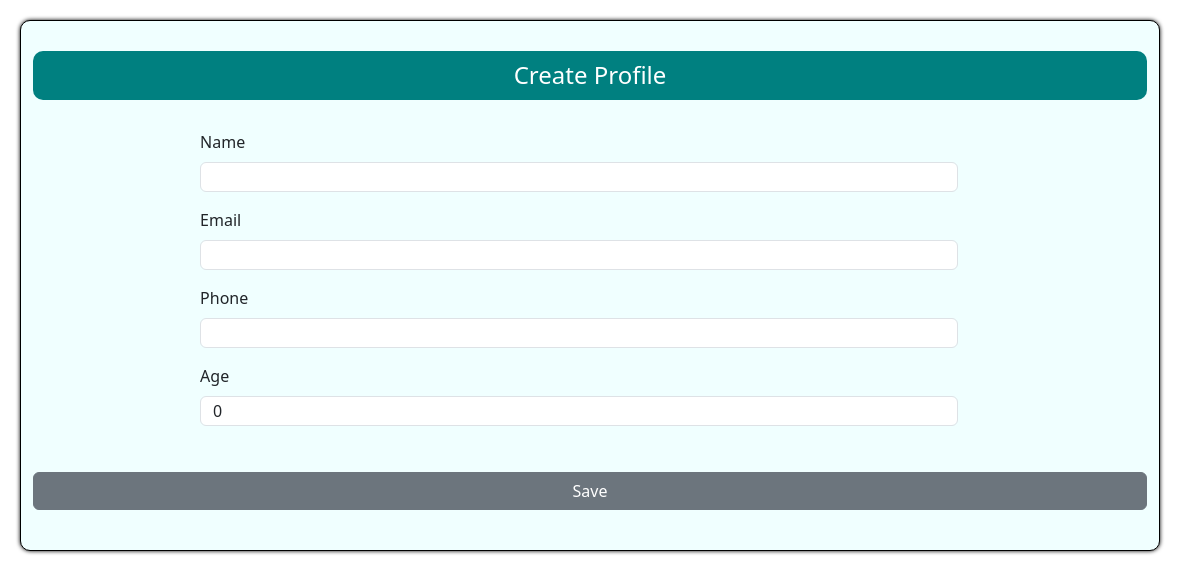
Test: ProfileForm Component › submits form successfully
Type "Jon Smith" into the field labelled "Name".
click(579, 177); type("Jon Smith")  # box [200, 162, 958, 192]
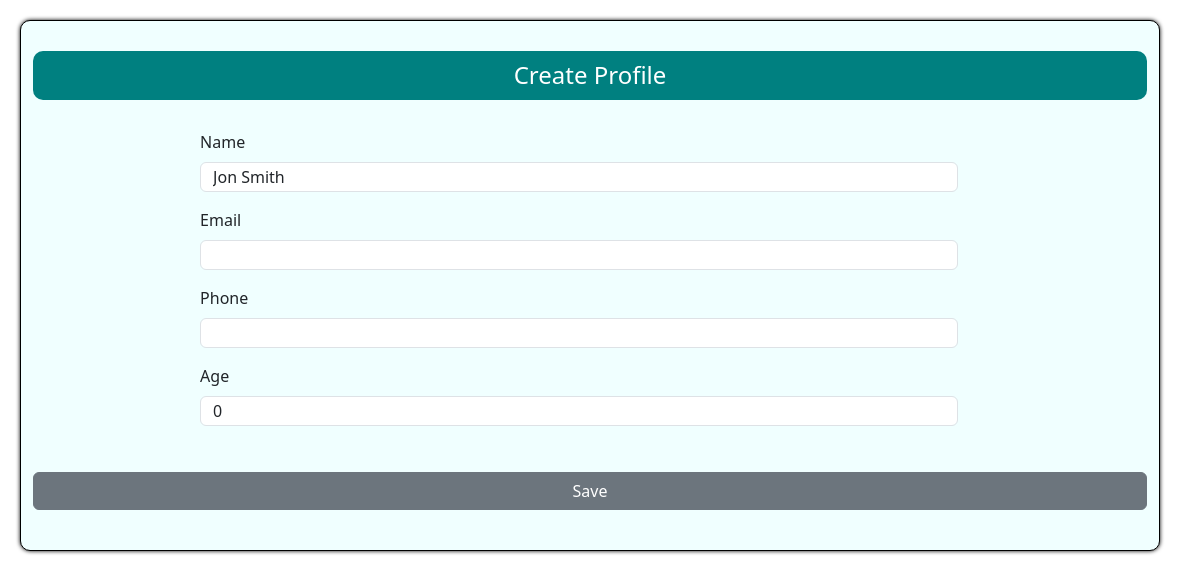
Type "jon@smith.com" into the field labelled "Email".
click(579, 255); type("jon@smith.com")  # box [200, 240, 958, 270]
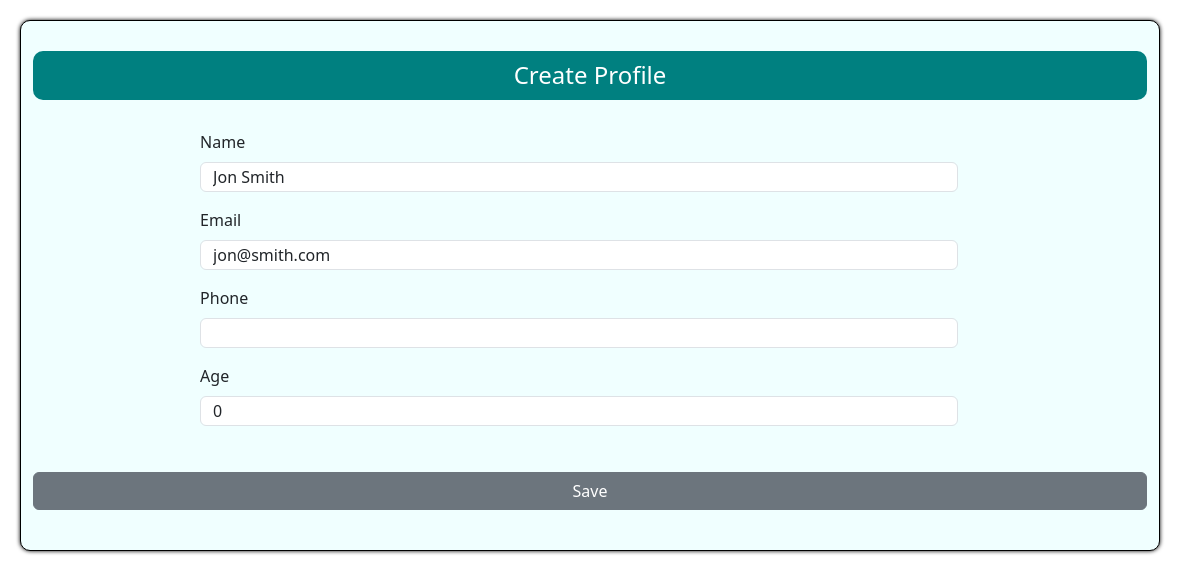
Type "111-111-1111" into the field labelled "Phone".
click(579, 333); type("111-111-1111")  # box [200, 318, 958, 348]
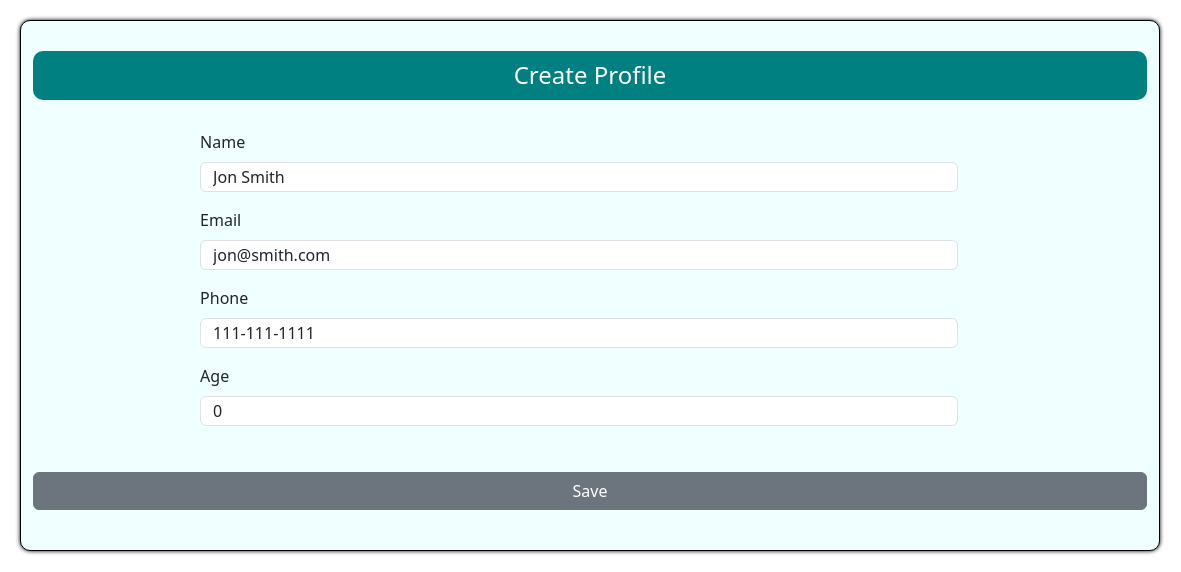
Replace the text in the number field labelled "Age" with "26" at (579, 411), box [200, 396, 958, 426]
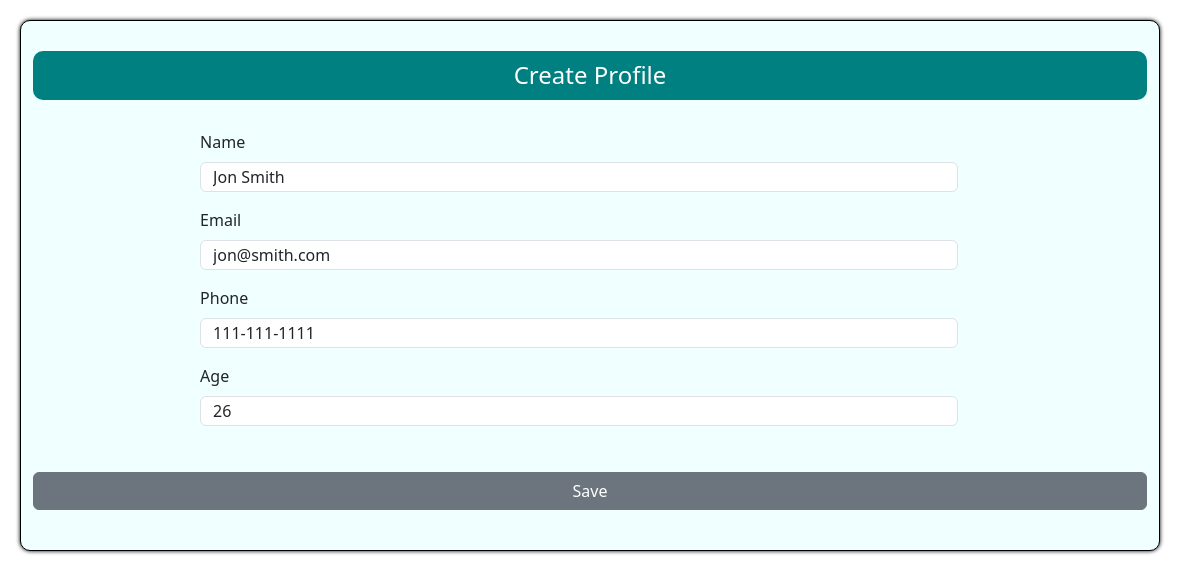
Click the button "Save".
click(590, 491)  # box [33, 472, 1147, 510]
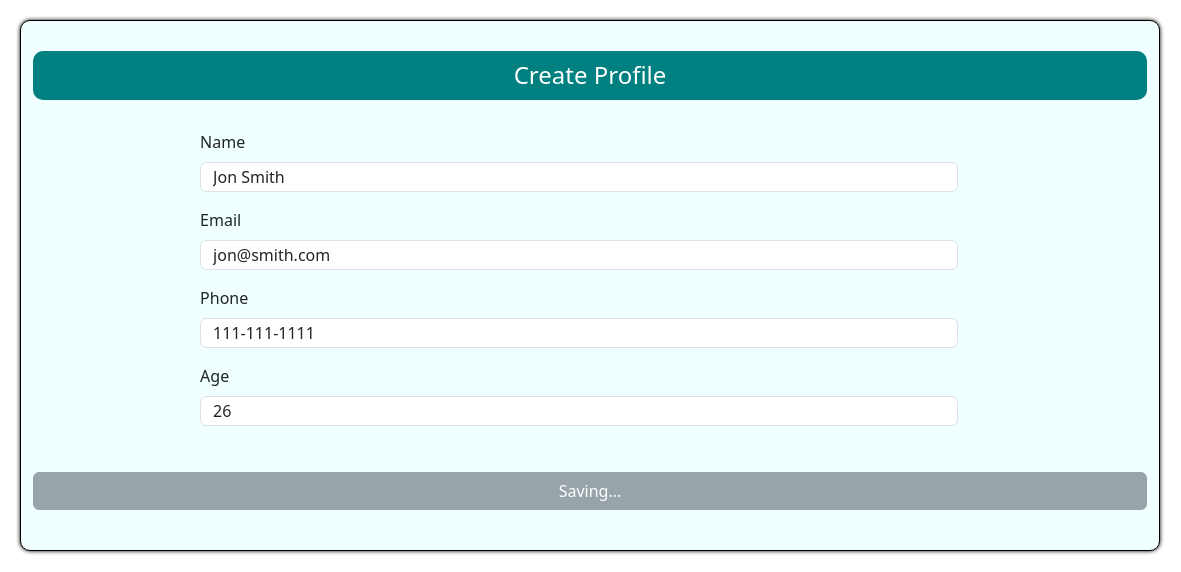
Result: the button "Saving..." is shown at [33, 472, 1147, 510]
